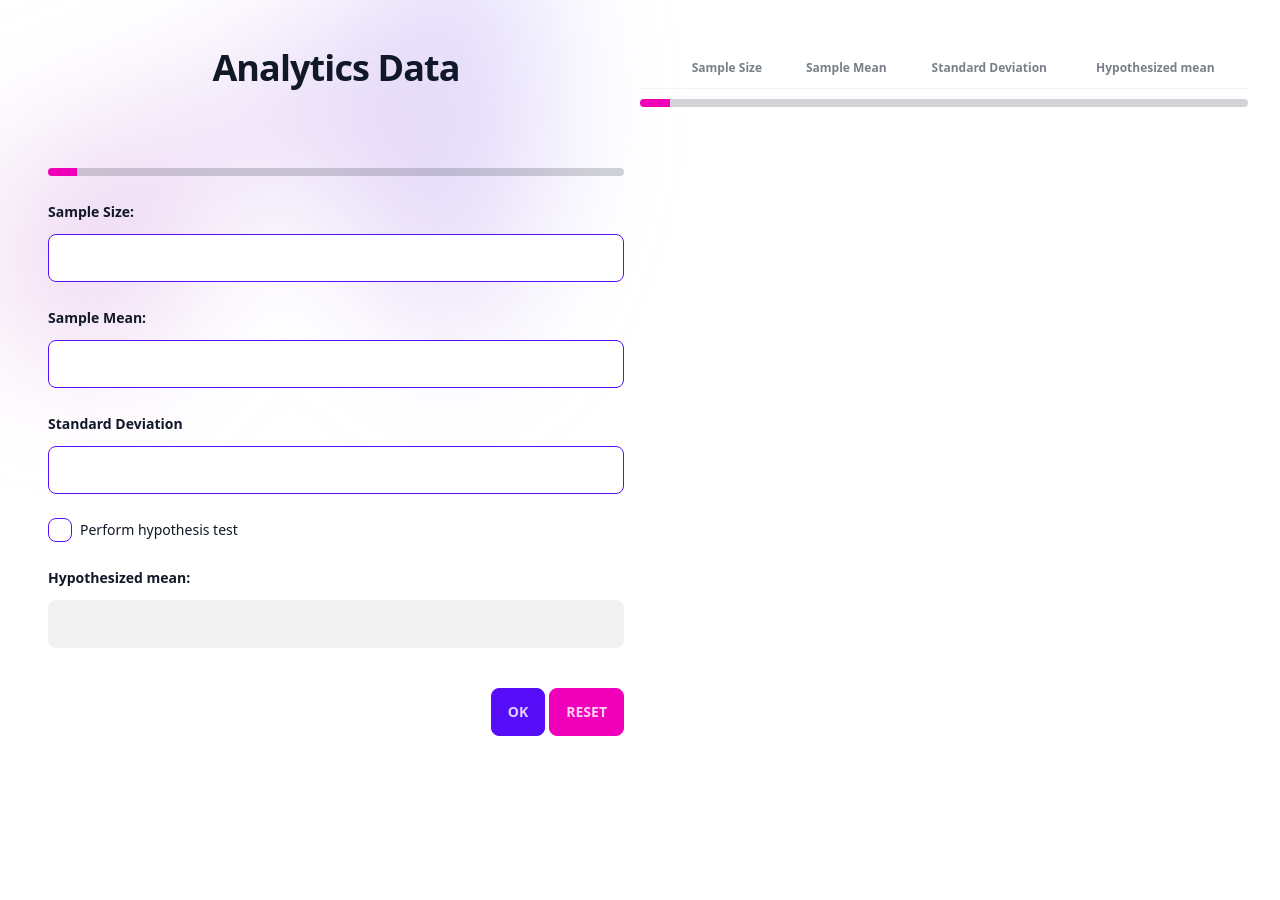
Test: Hypothesis Test field › Should be denable after toggling the checkbox
Click the checkbox labelled "Perform hypothesis test" at (60, 530), box x1=48 y1=518 x2=72 y2=542
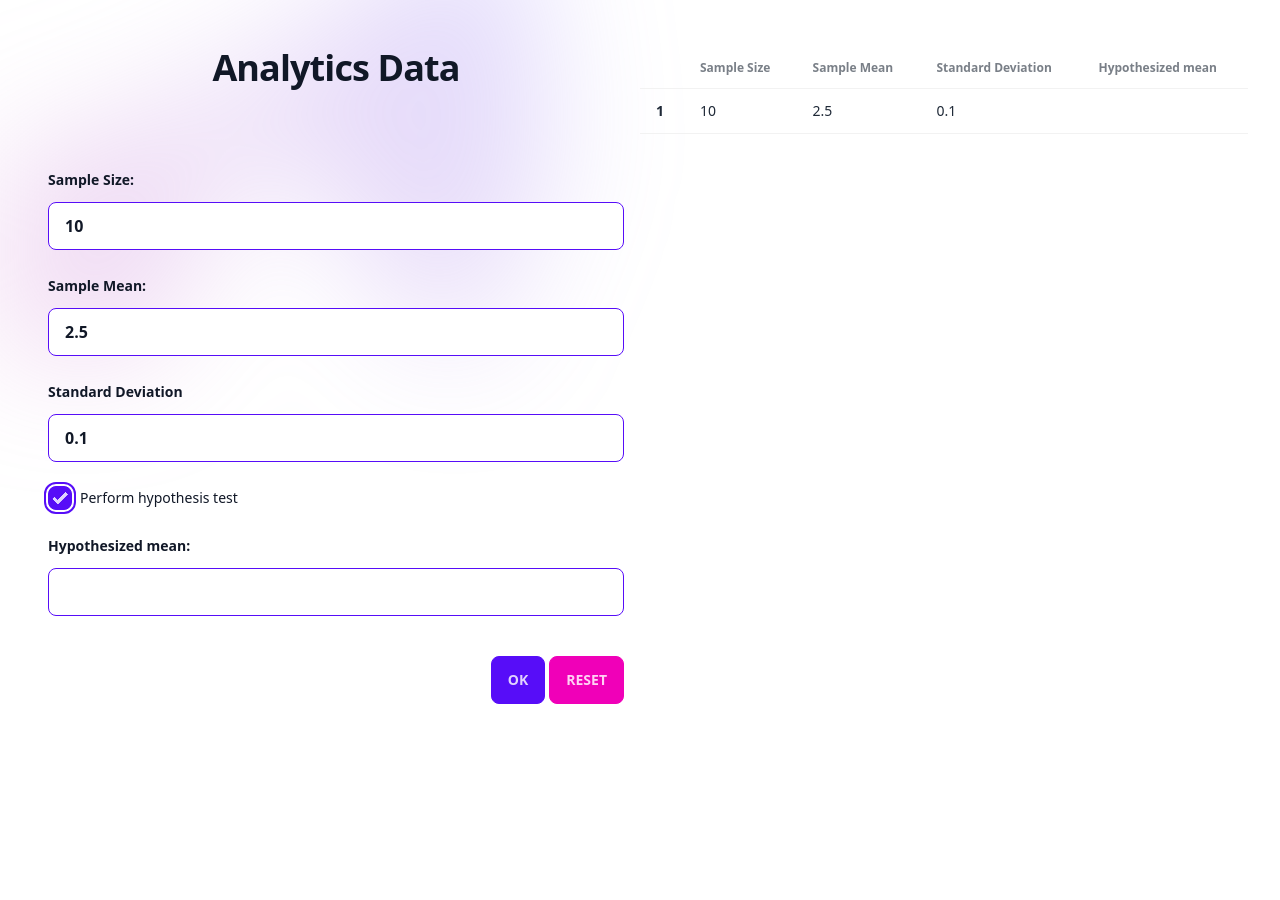
Now the number field labelled "Hypothesized mean:" is enabled, box x1=48 y1=568 x2=624 y2=616
